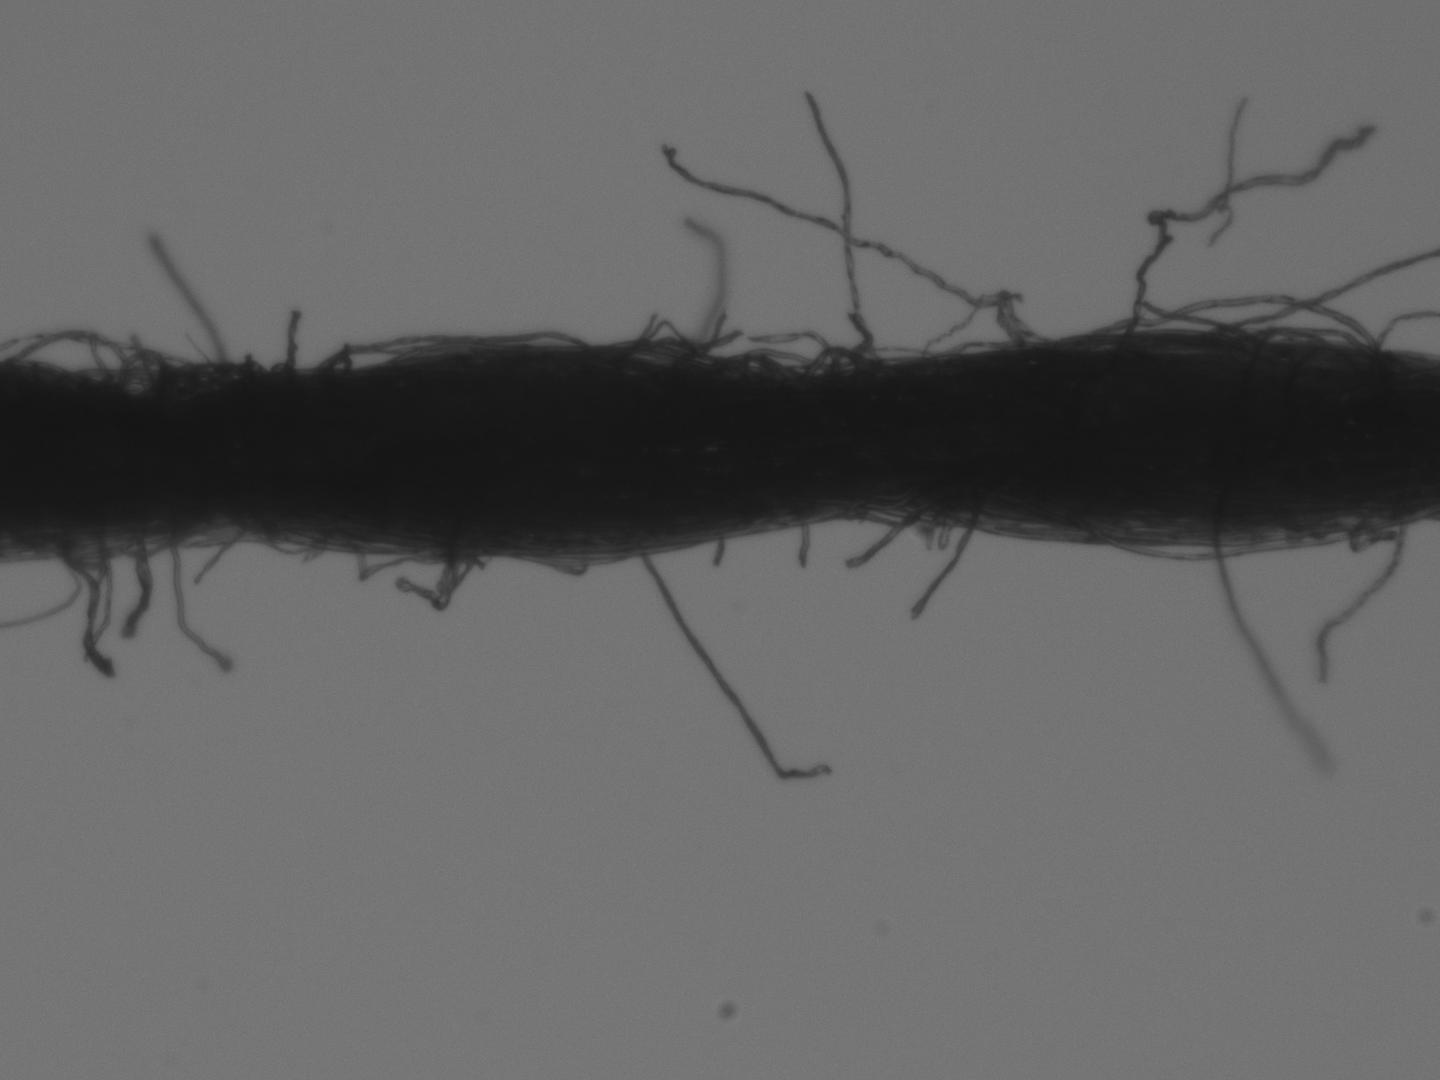loop_fiber: (1061, 294, 1373, 348), (1093, 513, 1418, 562), (3, 327, 187, 393), (327, 328, 590, 370), (920, 285, 1028, 366), (393, 550, 488, 609), (610, 315, 720, 363), (53, 525, 159, 573), (347, 542, 448, 585), (308, 341, 417, 370), (1239, 323, 1363, 348), (112, 345, 170, 394), (706, 345, 822, 369), (801, 340, 880, 372), (256, 531, 325, 558)
protruding_fiber: (661, 141, 1028, 337), (635, 554, 829, 788), (1214, 535, 1331, 773), (802, 87, 867, 355), (155, 236, 223, 363), (905, 513, 979, 623), (841, 509, 912, 574), (285, 310, 303, 372), (794, 526, 810, 571), (712, 538, 727, 571)
